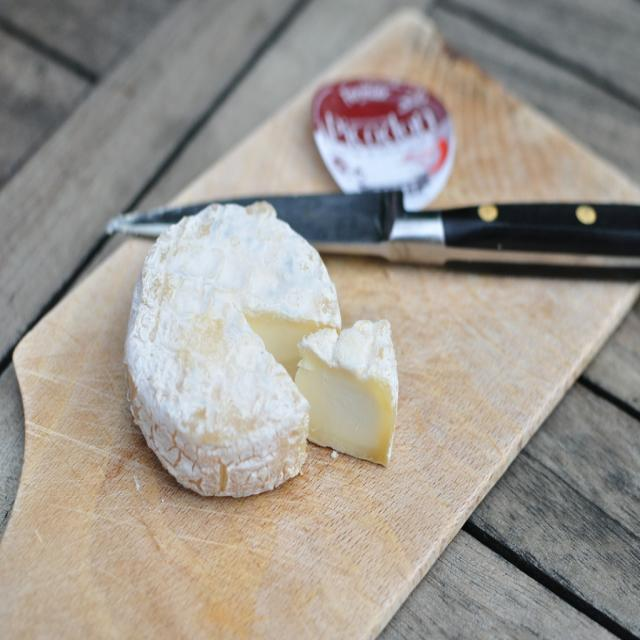Cheese: (122, 194, 345, 502), (292, 316, 401, 468)
